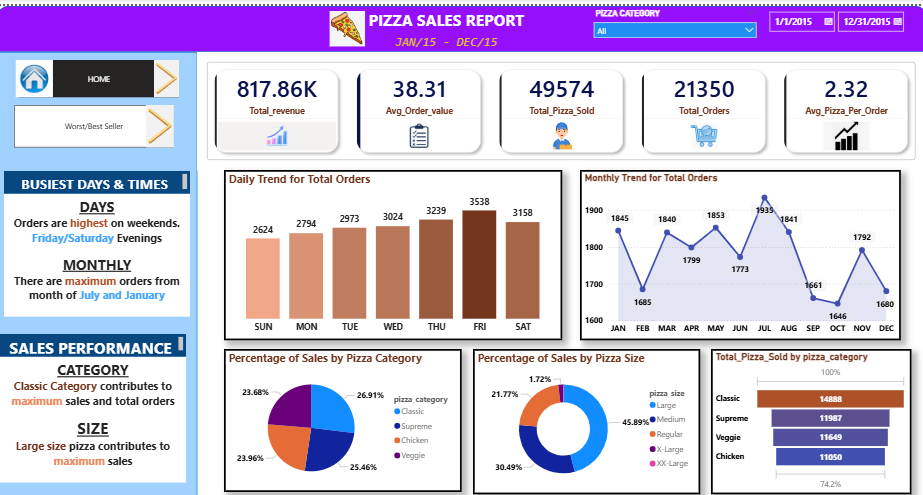

The dashboard page shown, as its layout file describes it:
{"tool":"powerbi","page":{"name":"HOME","canvas":[1600,850],"ordinal":0},"visuals":[{"type":"shape","box":[0,78.6,344.6,771.4],"z":0},{"type":"cardVisual","fields":{"Data":["Table.Total_revenue","Table.Avg_Order_value","Table.Total_Pizza_Sold","Table.Total_Orders","Table.Avg_Pizza_Per_Order"]},"box":[344.6,78.6,1255.4,203.6],"z":1000},{"type":"shape","box":[0,0,1600,78.6],"z":2000},{"type":"textbox","box":[633.9,0,280.4,51.8],"z":3000},{"type":"textbox","box":[678.6,42.9,191.1,35.7],"z":4000},{"type":"image","box":[571.4,8.9,62.5,60.7],"z":5000},{"type":"columnChart","title":"Daily Trend for Total Orders","fields":{"Category":["pizza_sales.Order_Day"],"Y":["Table.Total_Orders"]},"box":[391.1,282.1,582.1,292.9],"z":6000},{"type":"pageNavigator","box":[37.5,92.9,275,64.3],"z":7000},{"type":"areaChart","title":"Monthly Trend for Total Orders","fields":{"Category":["pizza_sales.Order_Month"],"Y":["Table.Total_Orders"]},"box":[1003.6,282.1,551.8,292.9],"z":8000},{"type":"pieChart","title":"Percentage of Sales by Pizza Category","fields":{"Category":["pizza_sales.pizza_category"],"Y":["Table.Total_revenue"]},"box":[391.1,589.3,408.9,246.4],"z":9000},{"type":"donutChart","title":"Percentage of Sales by Pizza Size","fields":{"Category":["pizza_sales.pizza_size"],"Y":["Table.Total_revenue"]},"box":[819.6,589.3,391.1,250],"z":10000},{"type":"funnel","fields":{"Category":["pizza_sales.pizza_category"],"Y":["Table.Total_Pizza_Sold"]},"box":[1228.6,589.3,344.6,250],"z":11000},{"type":"textbox","box":[12.5,283.9,319.6,39.3],"z":12000},{"type":"textbox","box":[12.5,323.2,319.6,210.7],"z":13000},{"type":"textbox","box":[5.4,564.3,319.6,39.3],"z":14000},{"type":"textbox","box":[5.4,603.6,319.6,216.1],"z":15000},{"type":"slicer","fields":{"Values":["pizza_sales.pizza_category"]},"box":[1016.1,0,300,69.6],"z":16000},{"type":"slicer","fields":{"Values":["pizza_sales.order_date"]},"box":[1316.1,0,283.9,60.7],"z":17000},{"type":"image","box":[269.6,92.9,42.9,64.3],"z":18000},{"type":"image","box":[28.6,92.9,69.6,64.3],"z":19000},{"type":"pageNavigator","box":[28.6,169.6,275,73.2],"z":20000},{"type":"image","box":[257.1,169.6,48.2,73.2],"z":21000}]}

Visuals, with their boxes in screenshot pixels (x1, y1, x2, y2), scaled from the page's 1600x850 canvas onto the 923x495 screenshot:
shape: detection(0, 46, 199, 494)
cardVisual - Table.Total_revenue x Table.Avg_Order_value: detection(199, 46, 922, 164)
shape: detection(0, 0, 922, 46)
textbox: detection(366, 0, 527, 30)
textbox: detection(391, 25, 502, 46)
image: detection(330, 5, 366, 41)
"Daily Trend for Total Orders" columnChart: detection(226, 164, 561, 335)
pageNavigator: detection(22, 54, 180, 92)
"Monthly Trend for Total Orders" areaChart: detection(579, 164, 897, 335)
"Percentage of Sales by Pizza Category" pieChart: detection(226, 343, 462, 487)
"Percentage of Sales by Pizza Size" donutChart: detection(473, 343, 698, 489)
funnel - pizza_sales.pizza_category x Table.Total_Pizza_Sold: detection(709, 343, 908, 489)
textbox: detection(7, 165, 192, 188)
textbox: detection(7, 188, 192, 311)
textbox: detection(3, 329, 187, 352)
textbox: detection(3, 352, 187, 477)
slicer - pizza_sales.pizza_category: detection(586, 0, 759, 41)
slicer - pizza_sales.order_date: detection(759, 0, 922, 35)
image: detection(156, 54, 180, 92)
image: detection(16, 54, 57, 92)
pageNavigator: detection(16, 99, 175, 141)
image: detection(148, 99, 176, 141)
